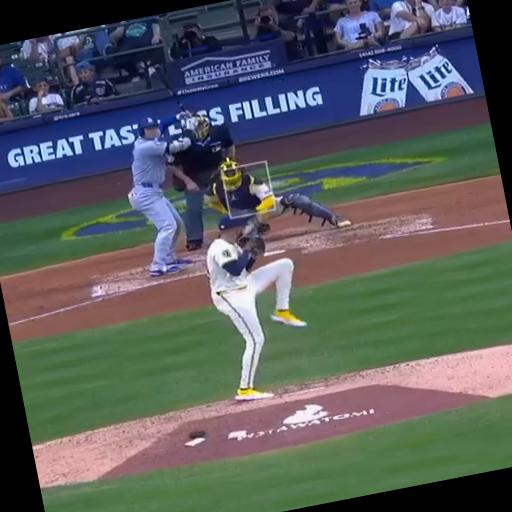bat: (154, 64, 185, 111)
